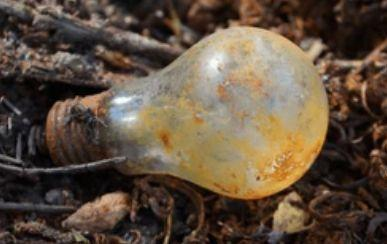light bulb: (37, 22, 335, 203)
